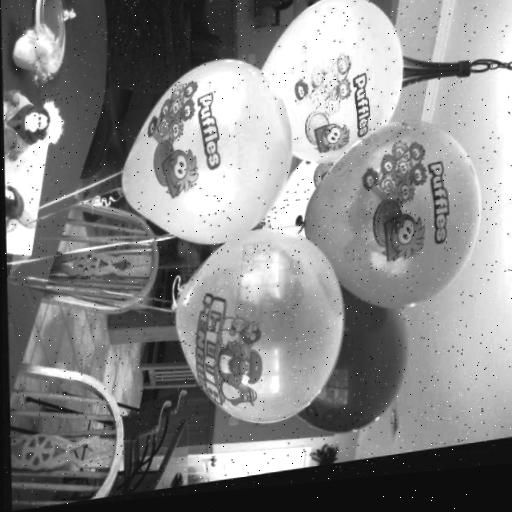balloon: (169, 222, 342, 442), (305, 121, 477, 326), (122, 50, 290, 254), (256, 0, 400, 177), (299, 289, 407, 439)
